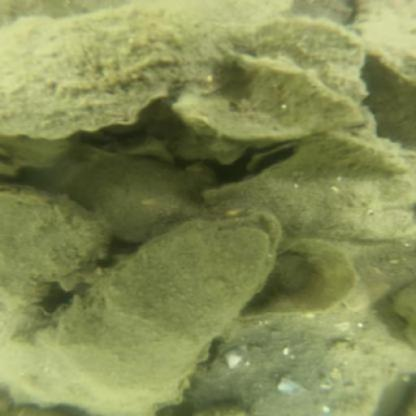3: (59, 213, 289, 398), (168, 56, 377, 154)
Oyster-Closed: (0, 7, 248, 142), (208, 138, 408, 243)
Oyster-Open: (4, 182, 110, 310), (54, 150, 198, 240), (251, 10, 374, 104), (354, 0, 415, 82)
